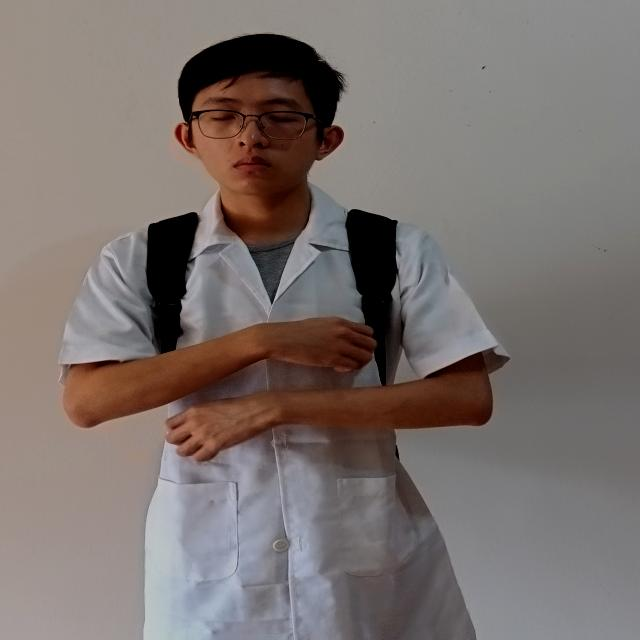person_with_labcoat: (59, 34, 509, 640)
